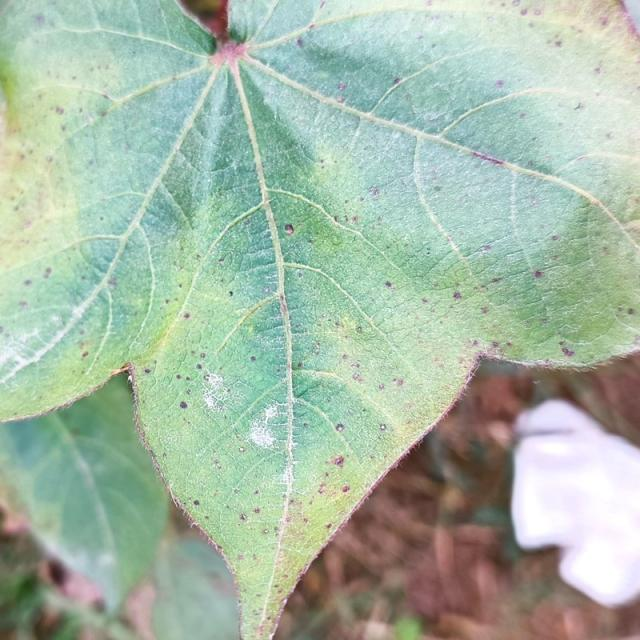Bacterial_Blight: (22, 67, 124, 164), (210, 37, 248, 67), (469, 348, 505, 368), (375, 274, 403, 293), (470, 150, 505, 165), (46, 560, 66, 586), (274, 220, 302, 237), (332, 451, 349, 471), (256, 620, 274, 638), (293, 382, 310, 399), (174, 398, 193, 413), (33, 14, 46, 26), (334, 419, 345, 433), (561, 347, 574, 357), (280, 597, 289, 611), (352, 372, 362, 382), (43, 267, 52, 278), (594, 64, 603, 75), (394, 378, 404, 387), (600, 17, 609, 27), (370, 187, 379, 196), (108, 277, 117, 286), (55, 106, 64, 115), (533, 270, 543, 278), (296, 38, 304, 48), (574, 102, 584, 110), (432, 185, 442, 193), (480, 245, 491, 252), (341, 485, 350, 493), (453, 292, 462, 300), (392, 77, 401, 85), (480, 306, 489, 314), (19, 300, 28, 308), (495, 80, 504, 88), (338, 82, 346, 91), (533, 8, 542, 16), (239, 513, 247, 521), (337, 95, 345, 103), (520, 8, 528, 16), (491, 277, 500, 284), (24, 279, 33, 286), (215, 543, 222, 552), (183, 312, 191, 319), (81, 351, 89, 358), (421, 297, 429, 304), (379, 424, 387, 431), (318, 486, 325, 494), (215, 462, 222, 470), (530, 198, 537, 206), (102, 92, 110, 99), (254, 507, 261, 514), (356, 326, 363, 333), (627, 308, 634, 315), (492, 341, 499, 348), (218, 258, 225, 265), (263, 287, 270, 294), (555, 40, 562, 47), (352, 215, 359, 222), (237, 554, 244, 561), (296, 271, 303, 278), (519, 112, 526, 119), (308, 23, 315, 30), (551, 235, 559, 241), (333, 215, 339, 223), (605, 133, 613, 139), (512, 1, 520, 7), (193, 500, 200, 506), (250, 355, 256, 362), (196, 363, 202, 370), (200, 352, 206, 359), (325, 523, 332, 529), (378, 384, 385, 390), (144, 368, 151, 374), (417, 34, 424, 40), (239, 446, 246, 452), (265, 615, 272, 621), (297, 362, 303, 368), (176, 374, 182, 380), (253, 489, 259, 495), (303, 422, 309, 428), (342, 354, 348, 360), (472, 340, 478, 346), (263, 528, 269, 534), (319, 158, 325, 164), (277, 588, 283, 594), (303, 517, 308, 523), (228, 291, 233, 297), (162, 452, 167, 458), (370, 454, 375, 459)
Cotton: (0, 0, 639, 639)
